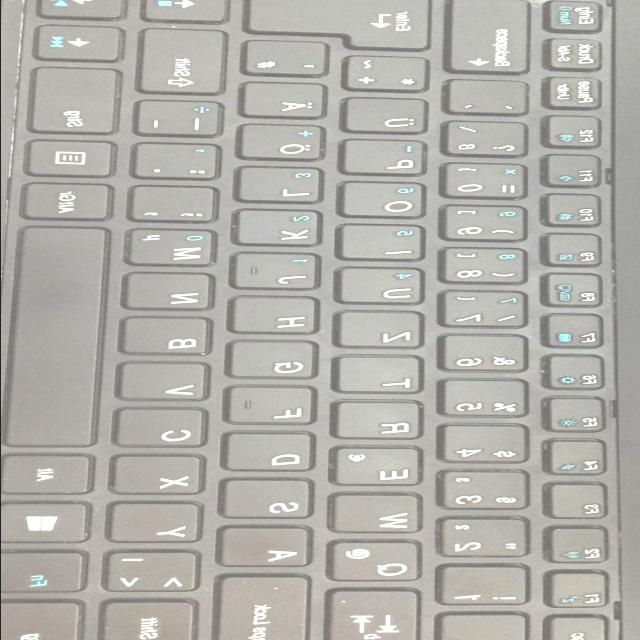0: (443, 164, 531, 202)
1: (439, 567, 533, 607)
2: (440, 519, 533, 559)
3: (440, 471, 534, 513)
4: (443, 426, 535, 466)
5: (442, 380, 532, 420)
6: (442, 335, 532, 375)
7: (443, 292, 531, 330)
8: (442, 249, 530, 286)
9: (442, 207, 530, 244)
a: (221, 529, 317, 570)
accent: (447, 81, 533, 117)
ae: (245, 84, 332, 121)
alt-left: (0, 455, 98, 497)
altgr-right: (24, 184, 116, 222)
b: (124, 318, 218, 358)
c: (116, 410, 211, 450)
caret: (441, 615, 533, 640)
comma: (132, 187, 224, 225)
d: (224, 434, 319, 474)
del: (450, 0, 536, 76)
e: (333, 449, 426, 489)
enter: (248, 0, 438, 53)
f: (229, 388, 321, 427)
g: (230, 343, 324, 381)
h: (233, 298, 325, 337)
hash: (244, 42, 334, 78)
i: (341, 225, 429, 262)
j: (233, 255, 325, 292)
k: (237, 211, 327, 248)
keyboard: (1, 0, 637, 640)
l: (238, 168, 328, 204)
less: (104, 552, 206, 595)
m: (127, 230, 221, 268)
minus: (136, 101, 228, 139)
n: (126, 275, 219, 313)
o: (340, 183, 430, 221)
oe: (239, 126, 329, 163)
p: (341, 141, 431, 179)
plus: (346, 57, 434, 94)
point: (134, 144, 224, 182)
q: (330, 542, 426, 584)
r: (336, 402, 428, 442)
s: (223, 480, 318, 522)
shift-left: (101, 603, 203, 640)
shift-lock: (217, 577, 318, 640)
shift-right: (140, 30, 233, 98)
space: (7, 230, 112, 450)
ss: (446, 123, 533, 160)
strg-left: (0, 603, 87, 640)
strg-right: (31, 69, 125, 138)
t: (337, 357, 427, 395)
tab: (328, 591, 428, 640)
u: (337, 269, 429, 307)
ue: (344, 99, 434, 137)
v: (121, 363, 215, 403)
w: (334, 496, 428, 536)
x: (113, 457, 211, 497)
y: (109, 503, 205, 545)
z: (337, 313, 429, 351)
